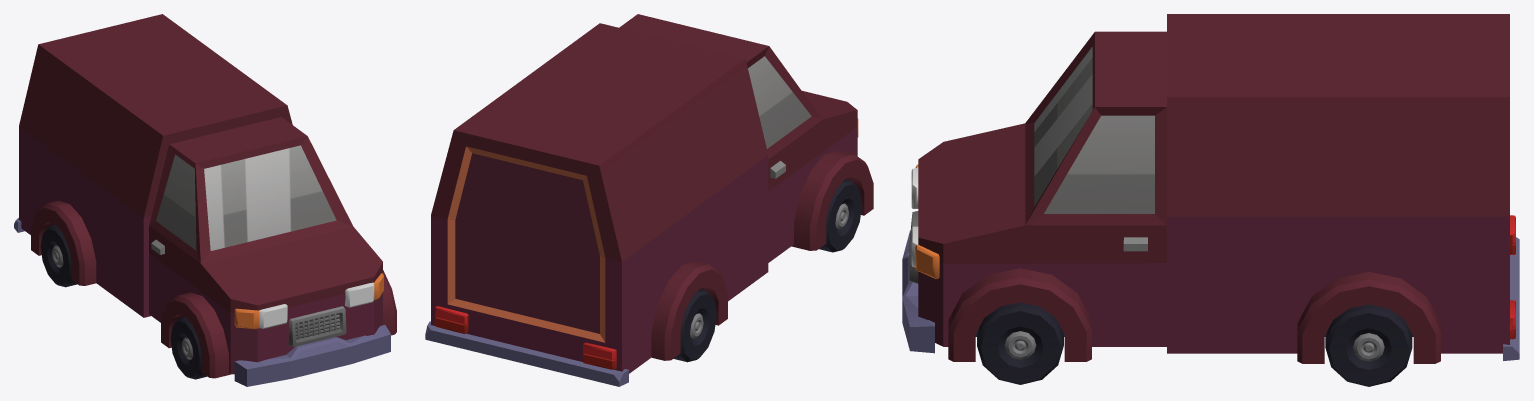
File: Van_13.fbx
3 renders of one model, left to right at view 1: azimuth 30°, elevation 25°; view 2: azimuth 150°, elevation 25°; view 3: azimuth 270°, elevation 25°, orthographic. The views are drawn at different scales.
Parts seen in each view (by area): view 1: Van_13, wheel_FR, wheel_BR; view 2: Van_13, wheel_BR, wheel_FR; view 3: Van_13, wheel_BL, wheel_FL.
Part boxes in pixels (x1,y1,x2,y2): Van_13: [14, 14, 396, 386]; wheel_FR: [170, 317, 207, 379]; wheel_BR: [40, 224, 77, 287]; Van_13: [425, 14, 873, 386]; wheel_BR: [673, 289, 716, 362]; wheel_FR: [819, 179, 861, 252]; Van_13: [902, 14, 1519, 363]; wheel_BL: [1325, 304, 1412, 386]; wheel_FL: [977, 302, 1063, 384].
Bounding box in the file's own units: 123 × 119 × 248.
